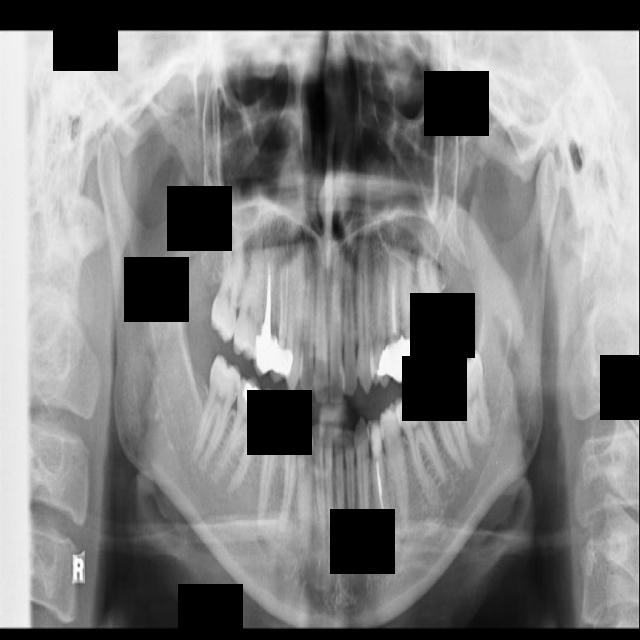52: (225, 372, 280, 430), (391, 382, 434, 437), (396, 318, 433, 371), (249, 331, 279, 379), (267, 336, 294, 386), (383, 338, 410, 384), (369, 346, 391, 388), (366, 418, 384, 455)
73: (273, 249, 295, 343), (256, 240, 277, 336), (370, 450, 392, 532), (385, 248, 402, 344), (616, 588, 622, 598)
BioHorizons Implant: (412, 245, 456, 352)
Biomet 3i Implant: (451, 350, 493, 449)
Blue Sky Bio Implant: (420, 360, 474, 477)
Caries: (209, 213, 245, 343)
Implant: (190, 353, 245, 468)
